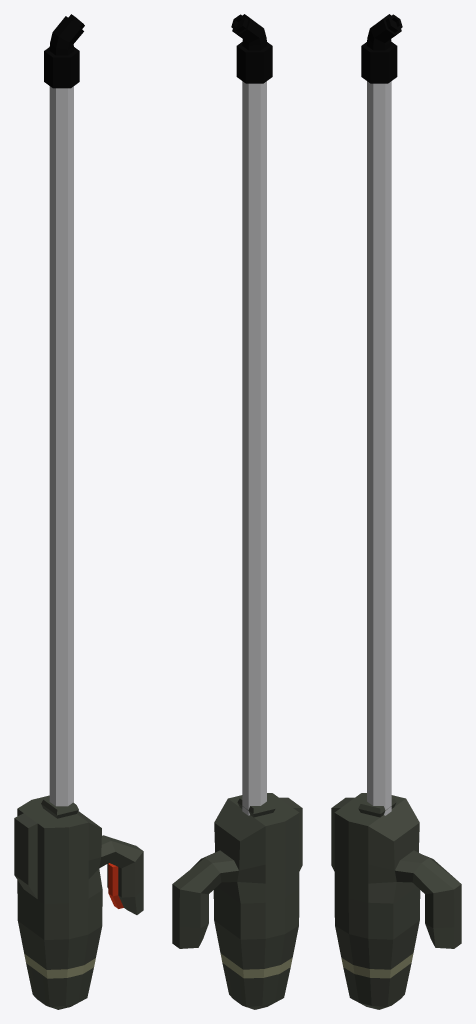
Rendered from fumigator_2.fbx.
3 views of the same model, side by side, from view 1: azimuth 30°, elevation 25°; view 2: azimuth 210°, elevation 25°; view 3: azimuth 330°, elevation 25° (orthographic).
Visible parts, largest first — view 1: fumigator_2; view 2: fumigator_2; view 3: fumigator_2.
Part boxes in pixels (left/top/right/bottom): fumigator_2: left=14, top=14, right=143, bottom=1009; fumigator_2: left=172, top=14, right=302, bottom=1009; fumigator_2: left=331, top=14, right=461, bottom=1009.
Size of the model in its own units: 37.12 by 295 by 20.34.
